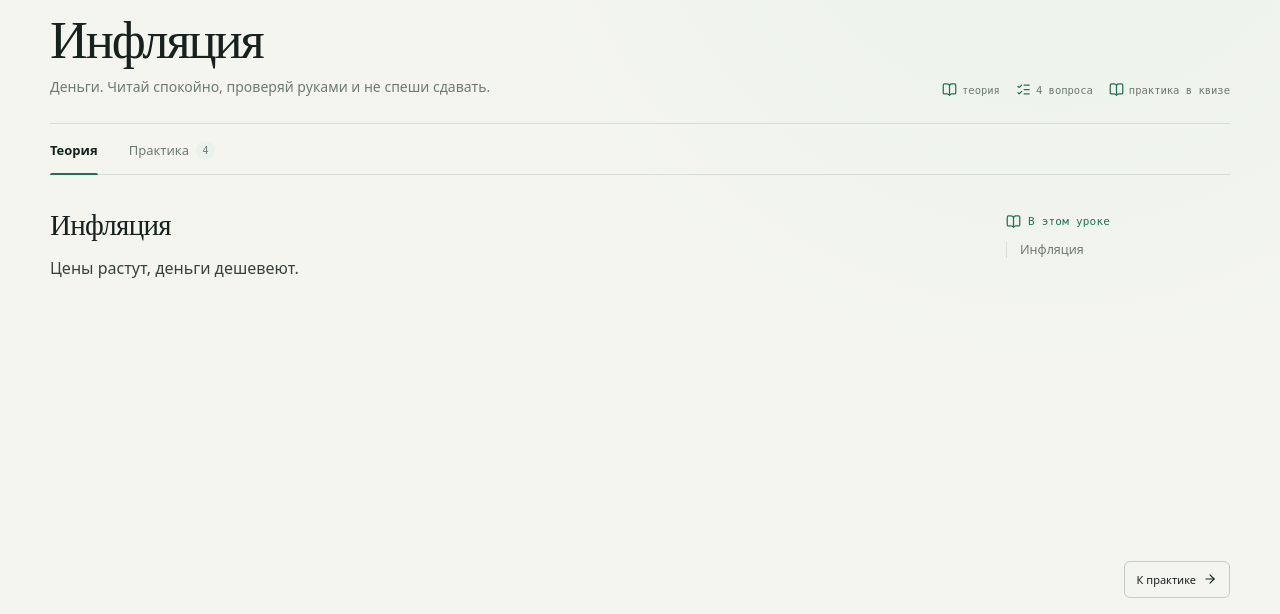
it: LessonPage › uses a single practice tab with the 50/50 quiz for general courses
This screenshot has width=1280, height=614.
Expected: the heading "Инфляция" below "урок ·" is shown, [50,11,262,69]
Expected: the tab "Вопросы" is not shown
Step 1. Click the tab "Практика 4" → (172, 149), box [129,125,215,174]
(page scrolled)
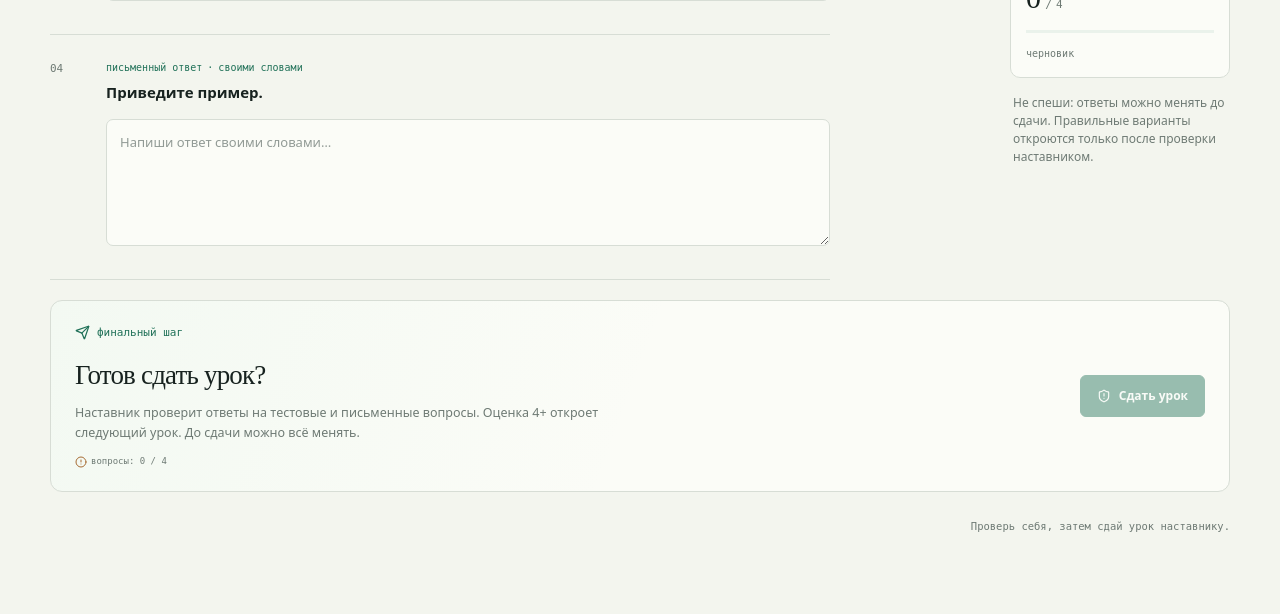
Result: the heading "Готов сдать урок?" is shown at [75,360,266,390]
